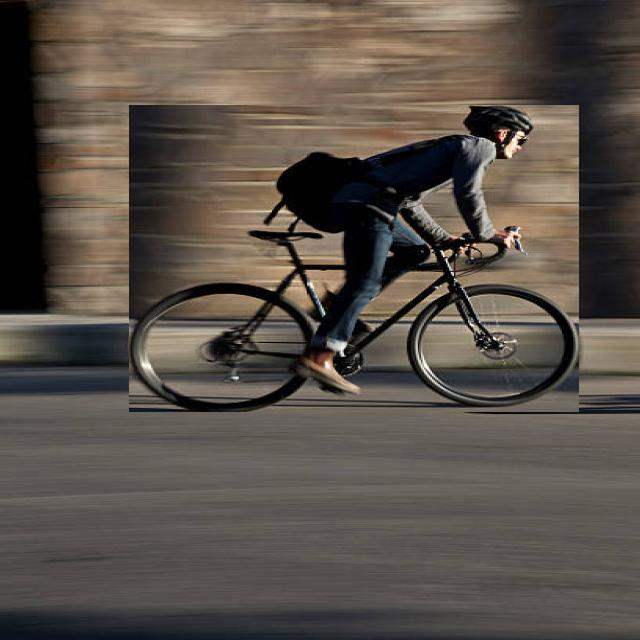bicycle: (129, 105, 579, 412)
